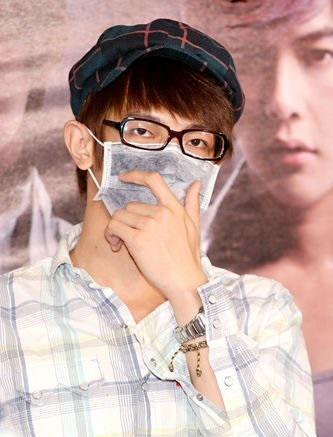NONE: (230, 38, 333, 196)
OK: (107, 108, 233, 234)
